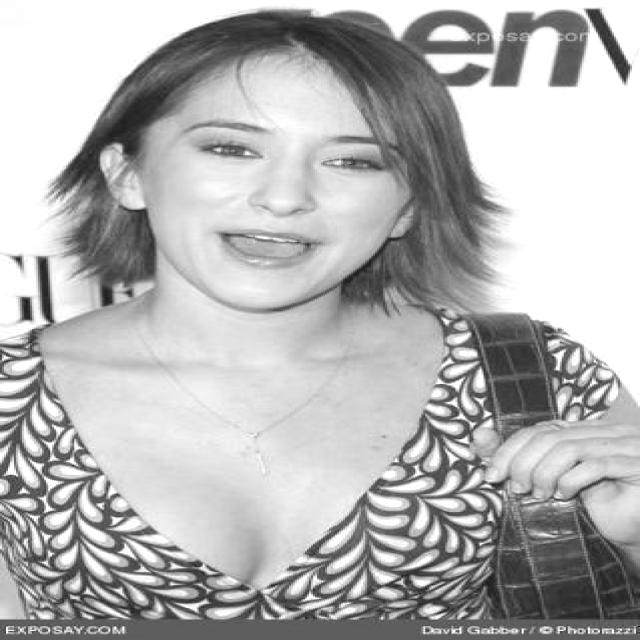real: (138, 112, 419, 310)
